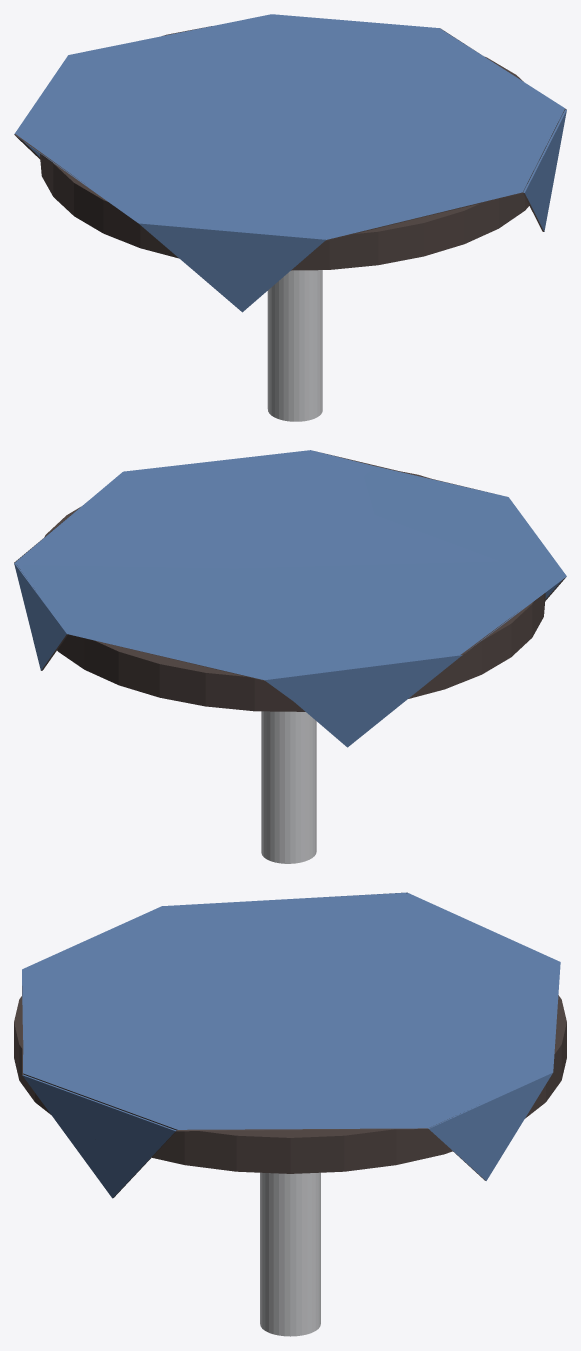
Rendered from roundTable.fbx.
3 renders of one model, top to bottom at view 1: azimuth 30°, elevation 25°; view 2: azimuth 150°, elevation 25°; view 3: azimuth 270°, elevation 25°, orthographic. The views are drawn at different scales.
Visible parts, largest first — view 1: Cylinder; view 2: Cylinder; view 3: Cylinder.
Part boxes in pixels (bbox=[...]): Cylinder: bbox=[14, 14, 566, 421]; Cylinder: bbox=[14, 450, 566, 863]; Cylinder: bbox=[14, 892, 566, 1336].
Size of the model in its own units: 1325 by 823 by 1318.
